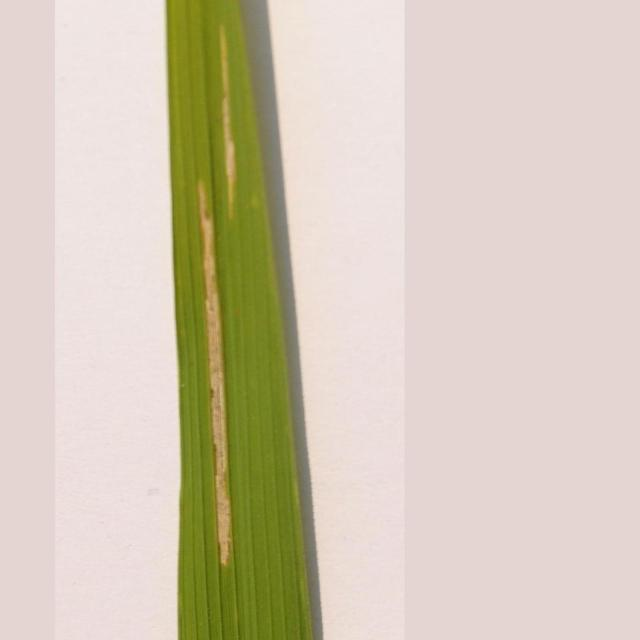Bacterial_Leaf_Blight: (168, 182, 259, 606), (203, 35, 255, 242)
